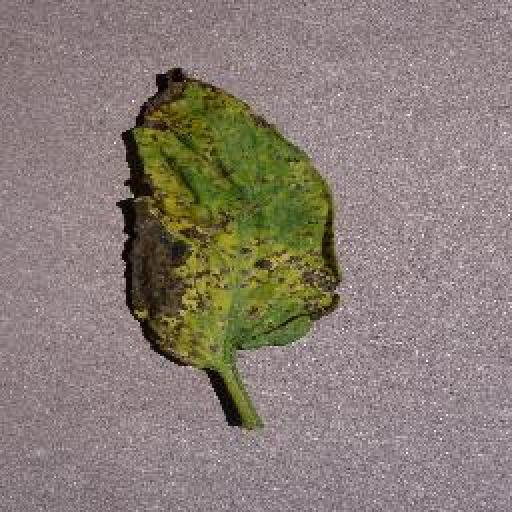disease_tomato: (122, 69, 341, 368)
